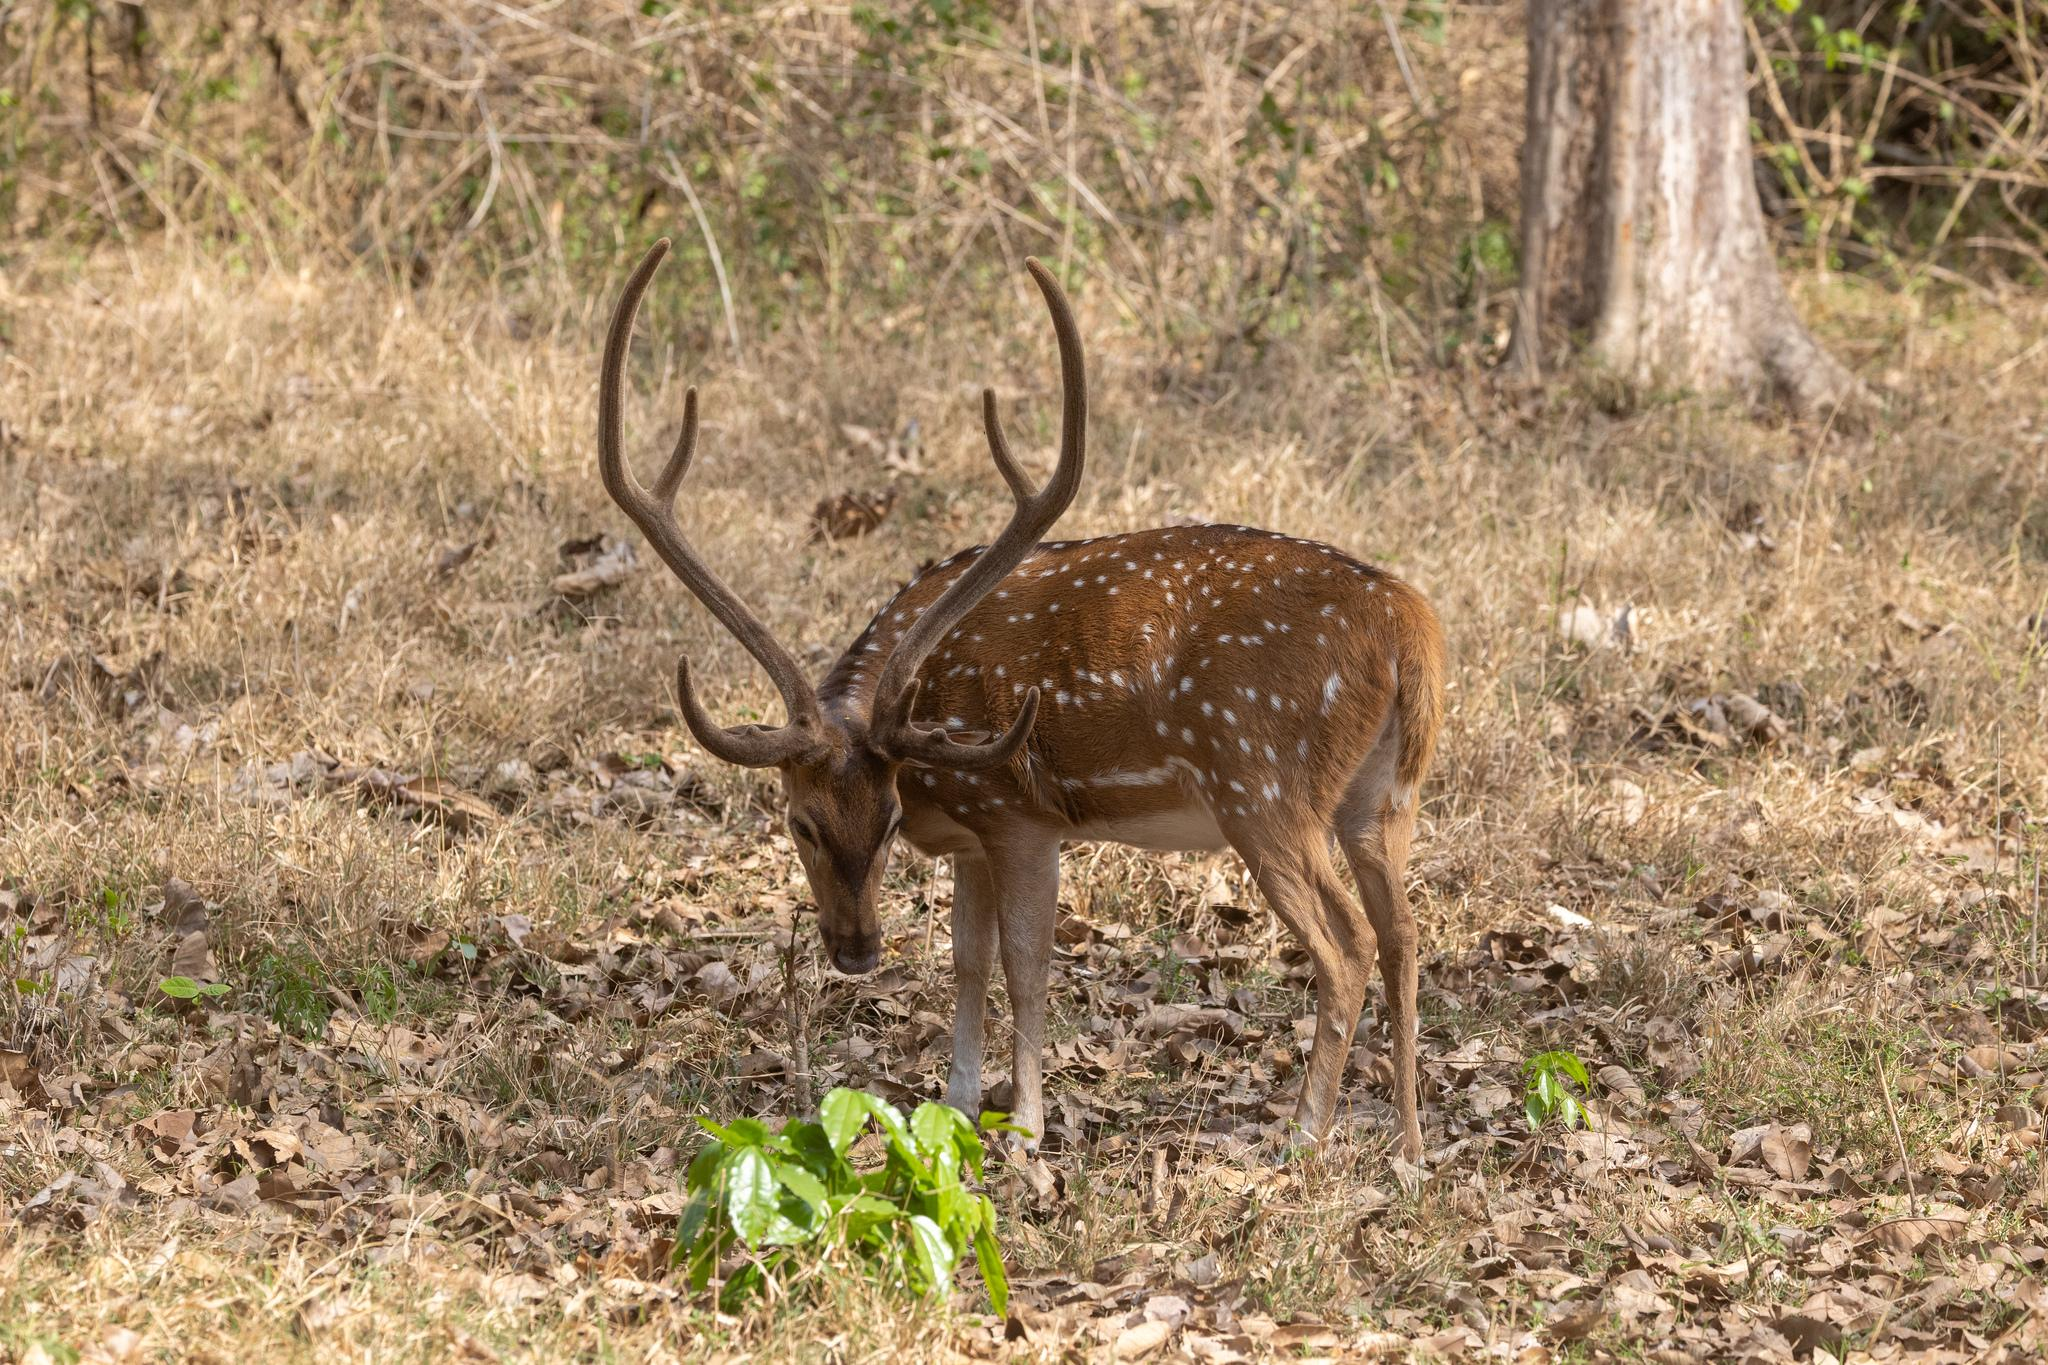Deer: (598, 242, 1443, 1161)
